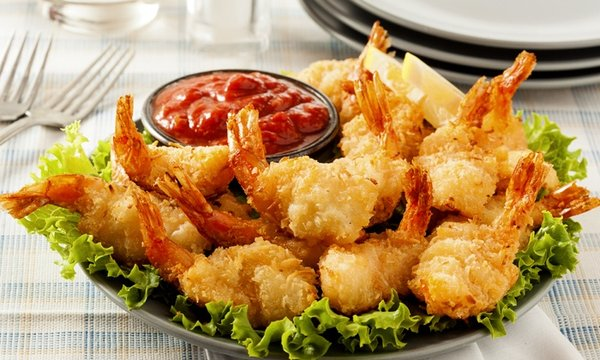sushi: (48, 0, 162, 40)
